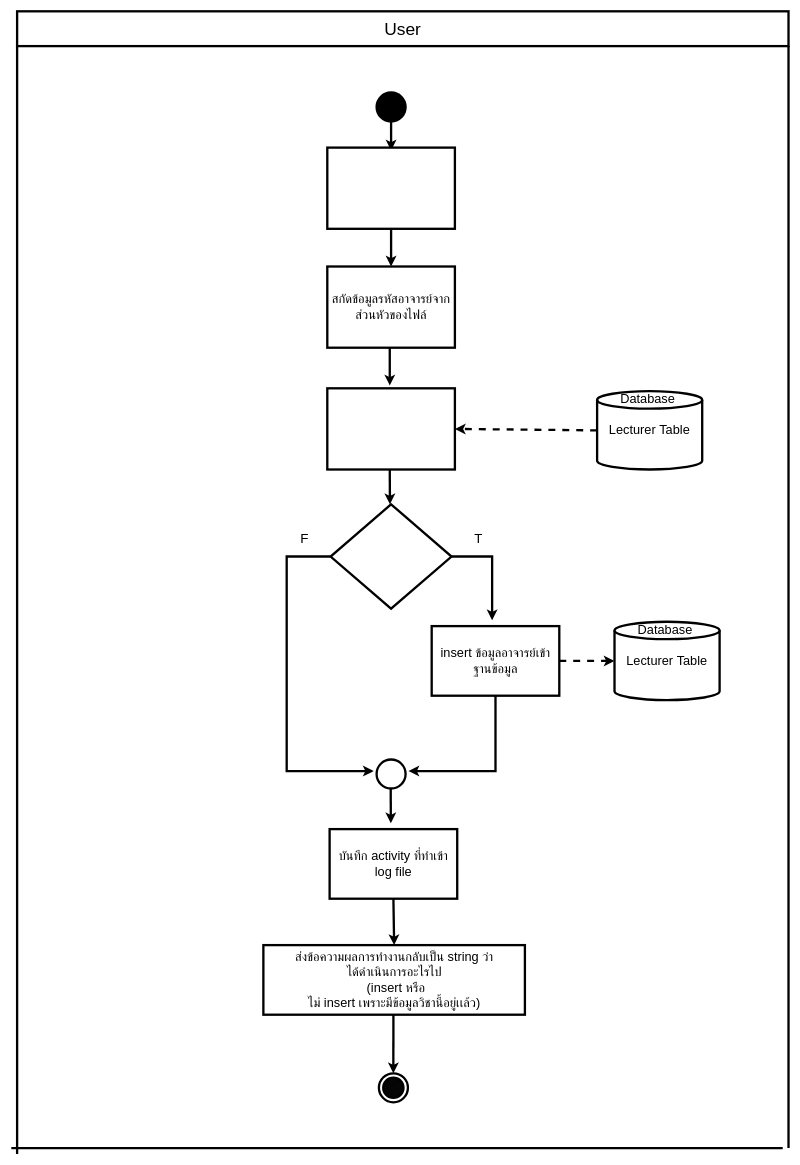
The diagram is 800 pixels wide and 1165 high, and some of its shapes have lost their labels. Each missing label, with the centre of its shape:
"อ่านข้อมูลรหัส อาจารย์ จาก table อาจารย์" belongs at (x=391, y=428).
"เปิดไฟล์ข้อมูลการลงทะเบียนของคอร์ส" belongs at (x=391, y=188).
"ไม่มีรหัส อาจารย์ ในฐานข้อมูล" belongs at (x=390, y=556).
